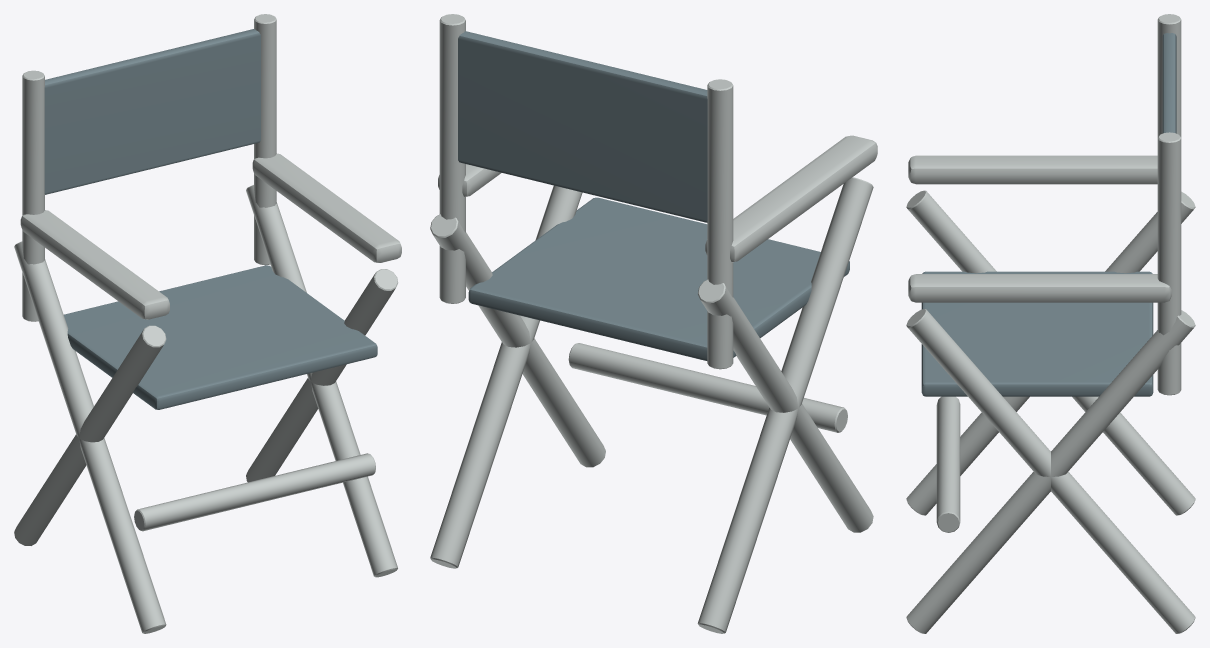
Rendered from directors-chair.glb.
3 views of the same model, side by side, from view 1: azimuth 30°, elevation 25°; view 2: azimuth 150°, elevation 25°; view 3: azimuth 270°, elevation 25° (orthographic). The views are drawn at different scales.
Visible parts, largest first — view 1: canvas_back, canvas_seat, folding_leg_b, folding_leg_b.001, folding_leg_a, footrest, armrest, armrest.001, folding_leg_a.001, back_post, back_post.001; view 2: canvas_back, canvas_seat, folding_leg_a, folding_leg_a.001, folding_leg_b, back_post, folding_leg_b.001, footrest, armrest, back_post.001, armrest.001; view 3: canvas_seat, folding_leg_a.001, folding_leg_b.001, armrest.001, armrest, folding_leg_a, back_post.001, folding_leg_b, footrest, back_post, canvas_back.
Part boxes in pixels (left/top/right/bottom): canvas_back: left=44, top=29, right=260, bottom=194; canvas_seat: left=64, top=265, right=377, bottom=409; folding_leg_b: left=14, top=241, right=166, bottom=633; folding_leg_b.001: left=246, top=185, right=397, bottom=577; folding_leg_a: left=14, top=325, right=166, bottom=545; footrest: left=134, top=453, right=375, bottom=531; armrest: left=20, top=210, right=169, bottom=319; armrest.001: left=252, top=153, right=401, bottom=262; folding_leg_a.001: left=246, top=269, right=398, bottom=482; back_post: left=22, top=70, right=44, bottom=321; back_post.001: left=254, top=14, right=276, bottom=265; canvas_back: left=458, top=31, right=707, bottom=222; canvas_seat: left=468, top=197, right=849, bottom=360; folding_leg_a: left=697, top=177, right=873, bottom=633; folding_leg_a.001: left=430, top=185, right=582, bottom=568; folding_leg_b: left=698, top=279, right=873, bottom=532; back_post: left=707, top=79, right=733, bottom=369; folding_leg_b.001: left=430, top=214, right=605, bottom=467; footrest: left=568, top=343, right=847, bottom=432; armrest: left=705, top=135, right=877, bottom=262; back_post.001: left=439, top=14, right=465, bottom=303; armrest.001: left=438, top=164, right=501, bottom=196; canvas_seat: left=921, top=271, right=1153, bottom=396; folding_leg_a.001: left=906, top=309, right=1195, bottom=633; folding_leg_b.001: left=906, top=310, right=1195, bottom=633; armrest.001: left=908, top=274, right=1171, bottom=302; armrest: left=908, top=155, right=1157, bottom=184; folding_leg_a: left=906, top=190, right=1195, bottom=515; back_post.001: left=1157, top=132, right=1181, bottom=395; folding_leg_b: left=906, top=191, right=1195, bottom=515; footrest: left=936, top=396, right=960, bottom=532; back_post: left=1157, top=14, right=1181, bottom=137; canvas_back: left=1162, top=33, right=1176, bottom=133.
Bounding box in the file's own units: 0.585 × 1.01 × 0.5367.
